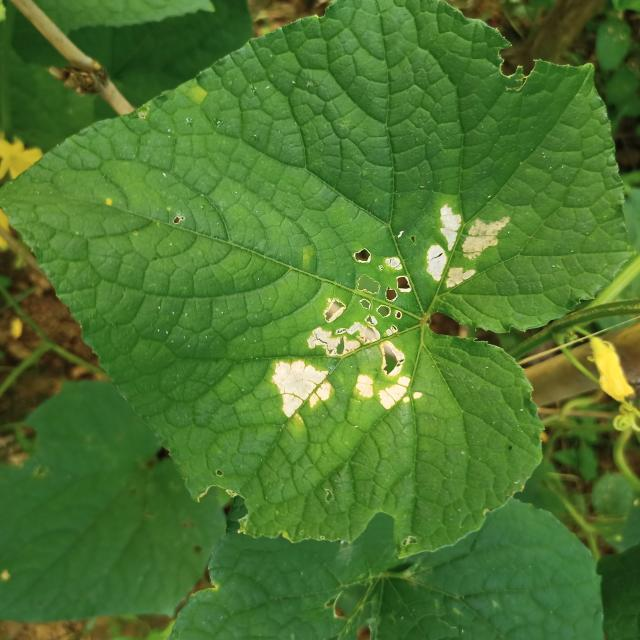disease_cucumber: (259, 234, 423, 427), (420, 200, 515, 292)
